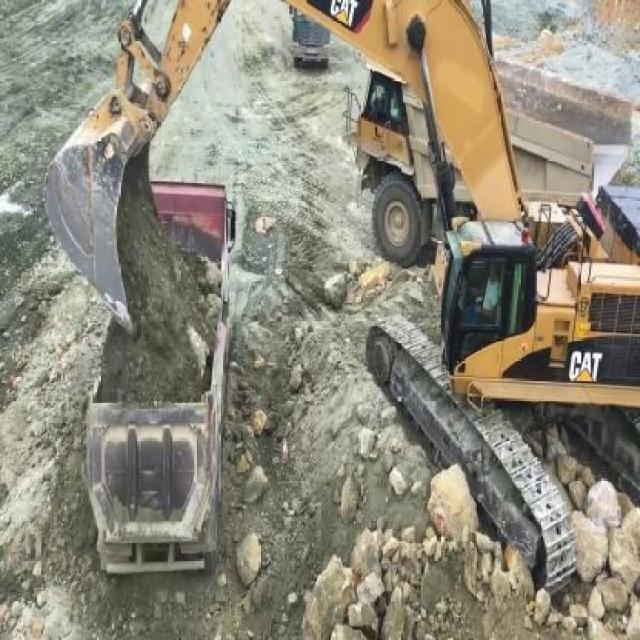Dump Truck: (352, 41, 616, 264), (92, 184, 240, 570)
Excavator: (46, 0, 640, 569)
